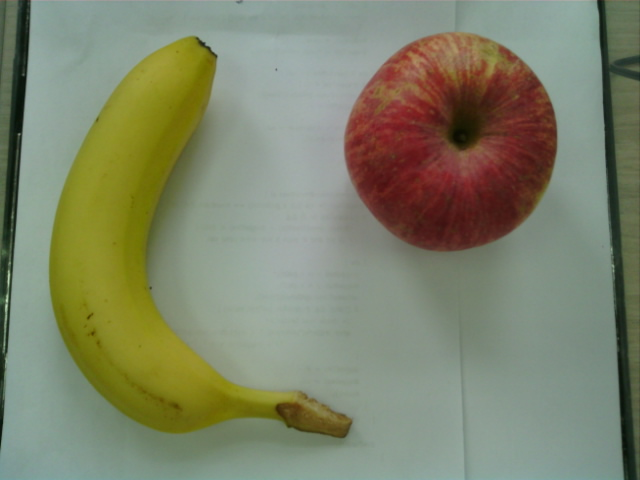normal_apple: (345, 30, 560, 250)
normal_banana: (50, 34, 338, 442)
